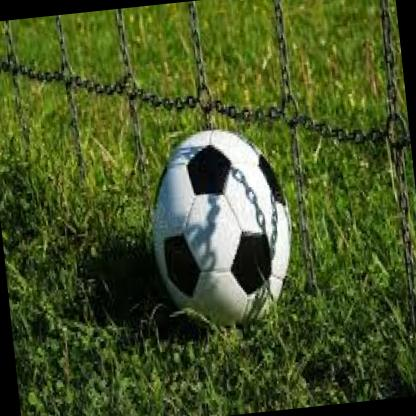ball: (141, 120, 300, 332)
